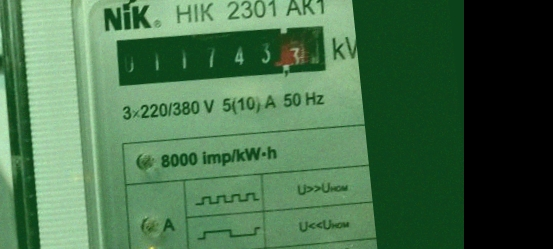0: (120, 47, 137, 75)
1: (147, 44, 164, 74), (175, 43, 191, 72)
3: (256, 38, 273, 67), (286, 45, 303, 68)
4: (230, 42, 247, 68)
7: (202, 43, 219, 69)
screen: (106, 13, 337, 100)
